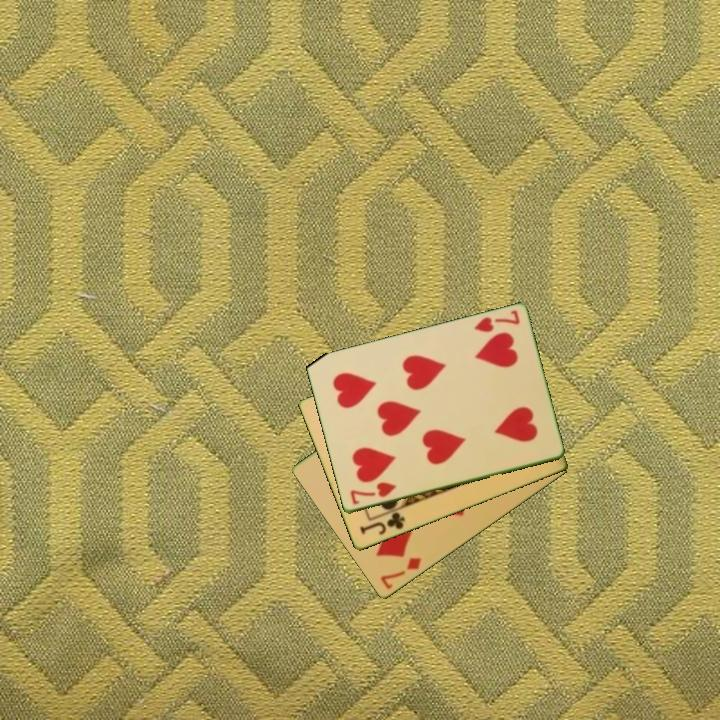7d: (377, 554, 424, 592)
7h: (346, 479, 399, 508), (470, 307, 522, 336)
Jc: (356, 509, 408, 538)
